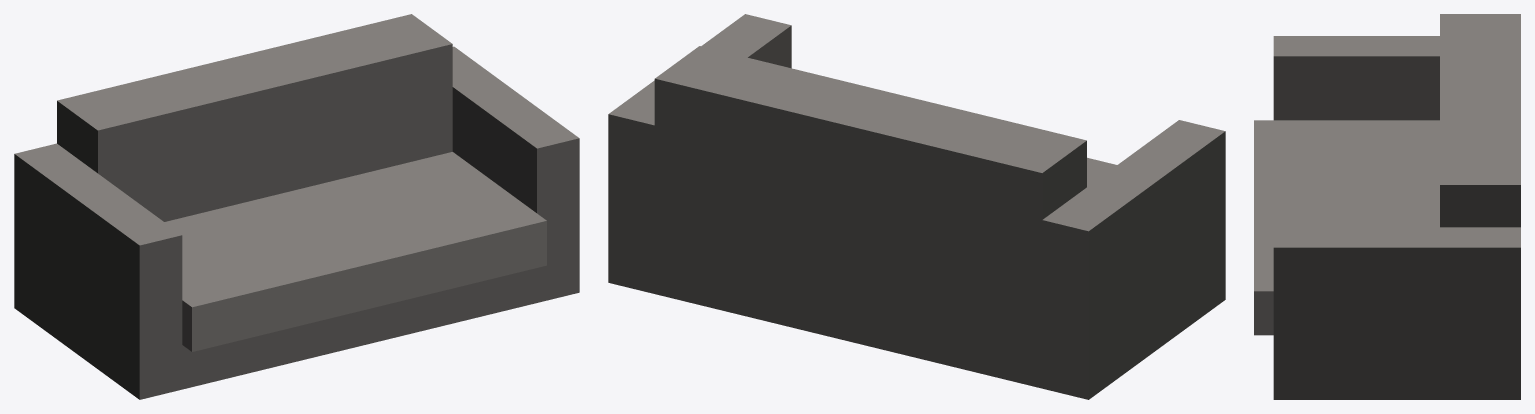
File: SO_Couch_02.fbx
The picture shows the model from 3 angles, left to right: view 1: azimuth 30°, elevation 25°; view 2: azimuth 150°, elevation 25°; view 3: azimuth 270°, elevation 25°; orthographic projection. The views are drawn at different scales.
Visible parts, largest first — view 1: SO_Couch_02; view 2: SO_Couch_02; view 3: SO_Couch_02.
Boxes of the visible parts, x1=… form: SO_Couch_02: x1=14, y1=14, x2=579, y2=399; SO_Couch_02: x1=608, y1=14, x2=1225, y2=399; SO_Couch_02: x1=1254, y1=14, x2=1520, y2=399.
Size of the model in its own units: 2.88 by 1.23 by 1.53.
